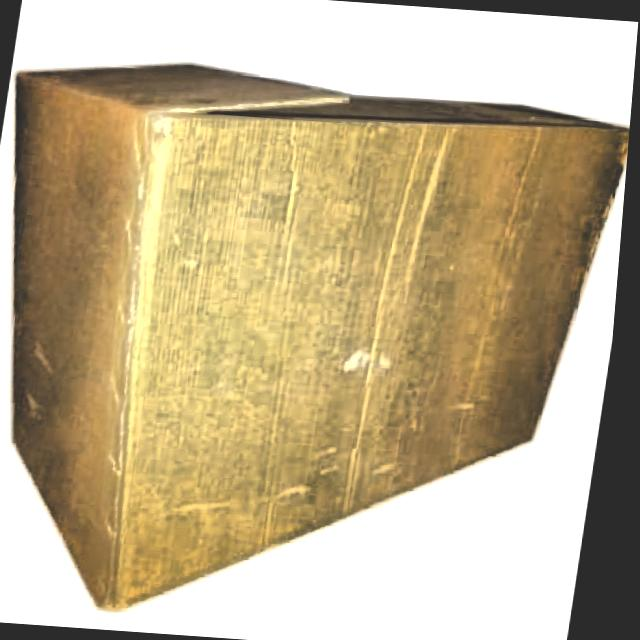Cardbox: (0, 18, 639, 640)
